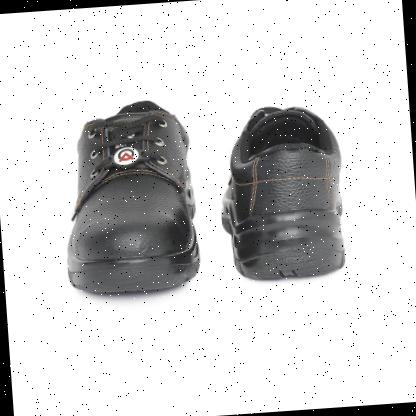bota: (51, 92, 206, 304), (209, 99, 354, 288)
